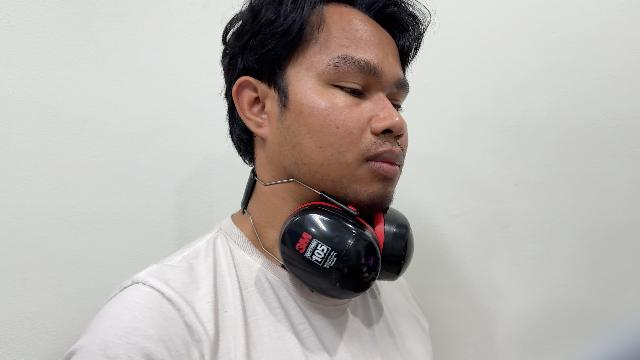headphones: (241, 169, 413, 298)
right_ear: (232, 76, 274, 139)
